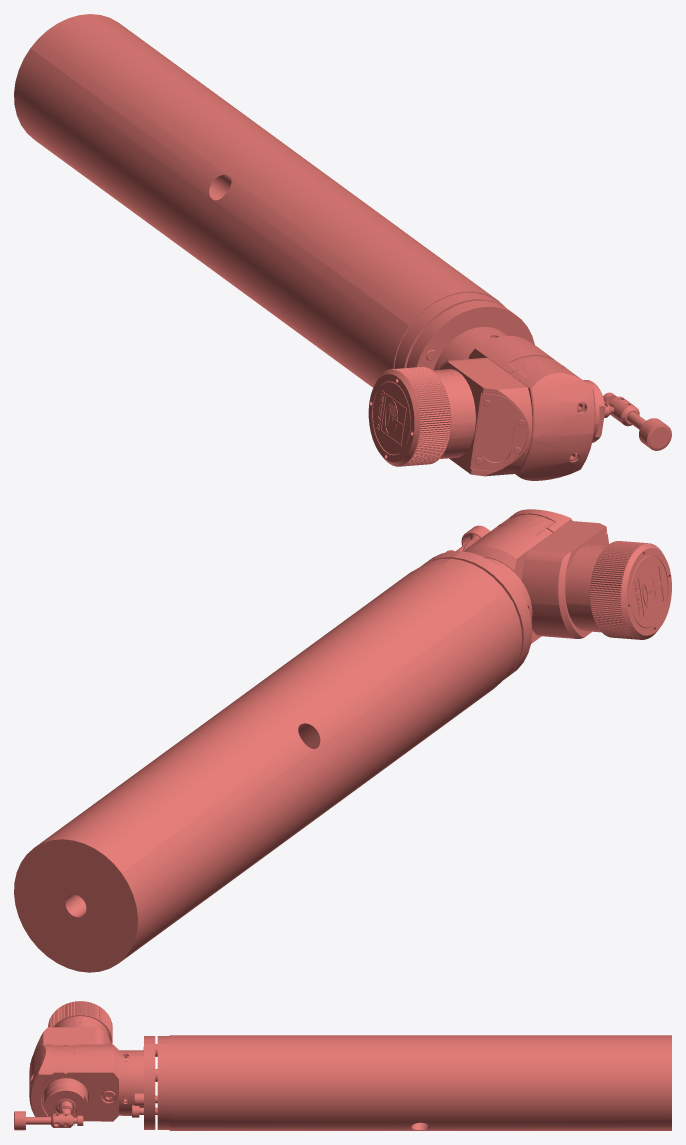
File: wips.glb
The picture shows the model from 3 angles, top to bottom: view 1: azimuth 30°, elevation 25°; view 2: azimuth 150°, elevation 25°; view 3: azimuth 270°, elevation 25°; orthographic projection. The views are drawn at different scales.
Parts seen in each view (by area): view 1: geometry_0; view 2: geometry_0; view 3: geometry_0.
Boxes of the visible parts, x1,y1,x2,y2 form: geometry_0: [14, 14, 671, 480]; geometry_0: [14, 509, 671, 972]; geometry_0: [14, 1001, 671, 1130].
Size of the model in its own units: 120 by 63.44 by 437.
